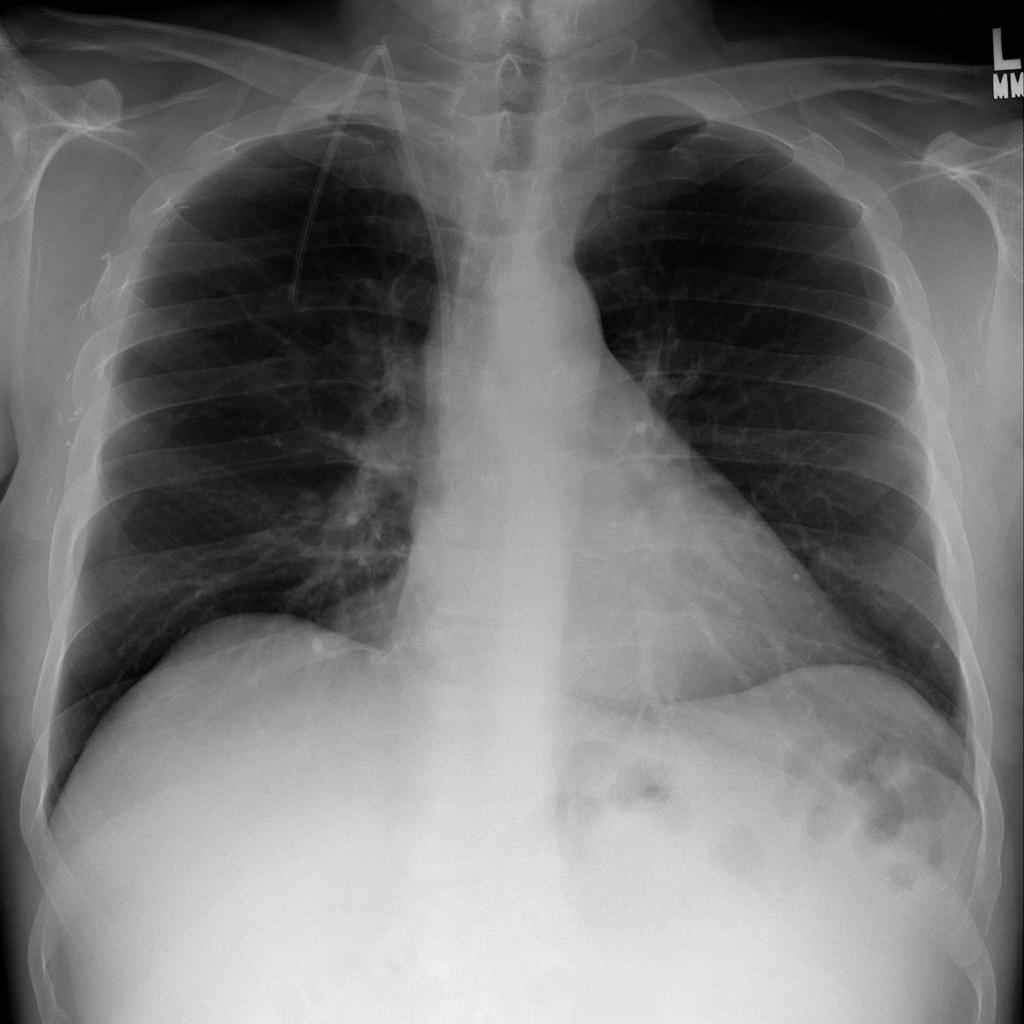nodule: (792, 531, 869, 602)
